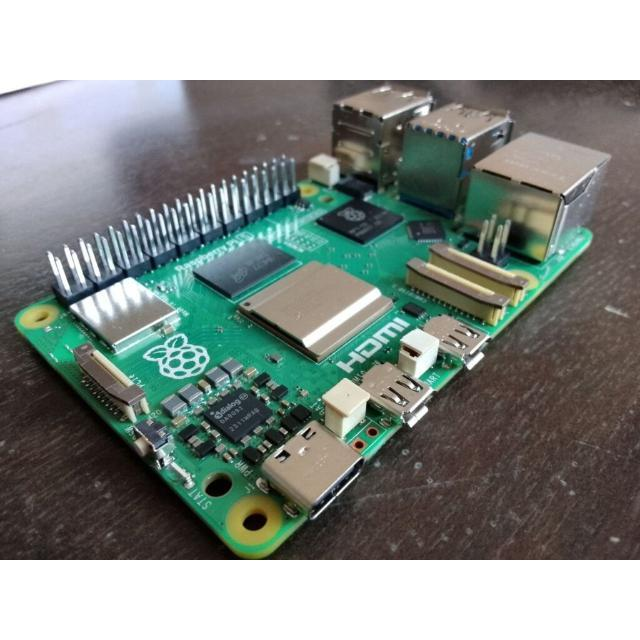Raspberry-Pi-5: (16, 87, 609, 558)
